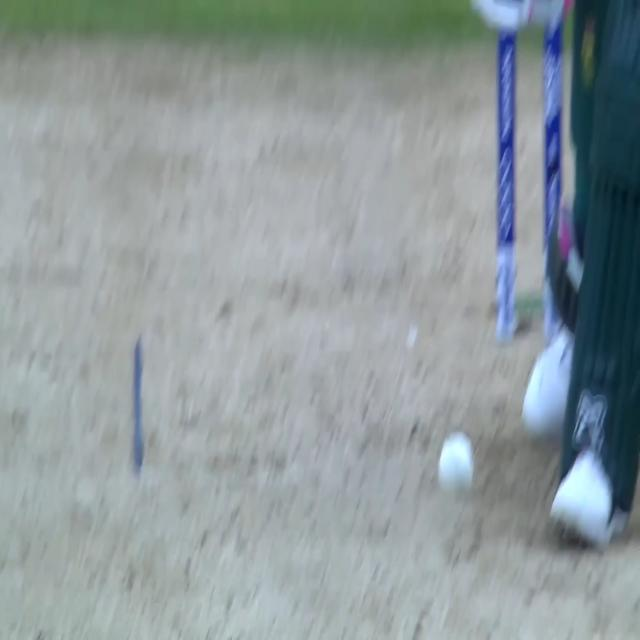ball: (432, 423, 482, 506)
